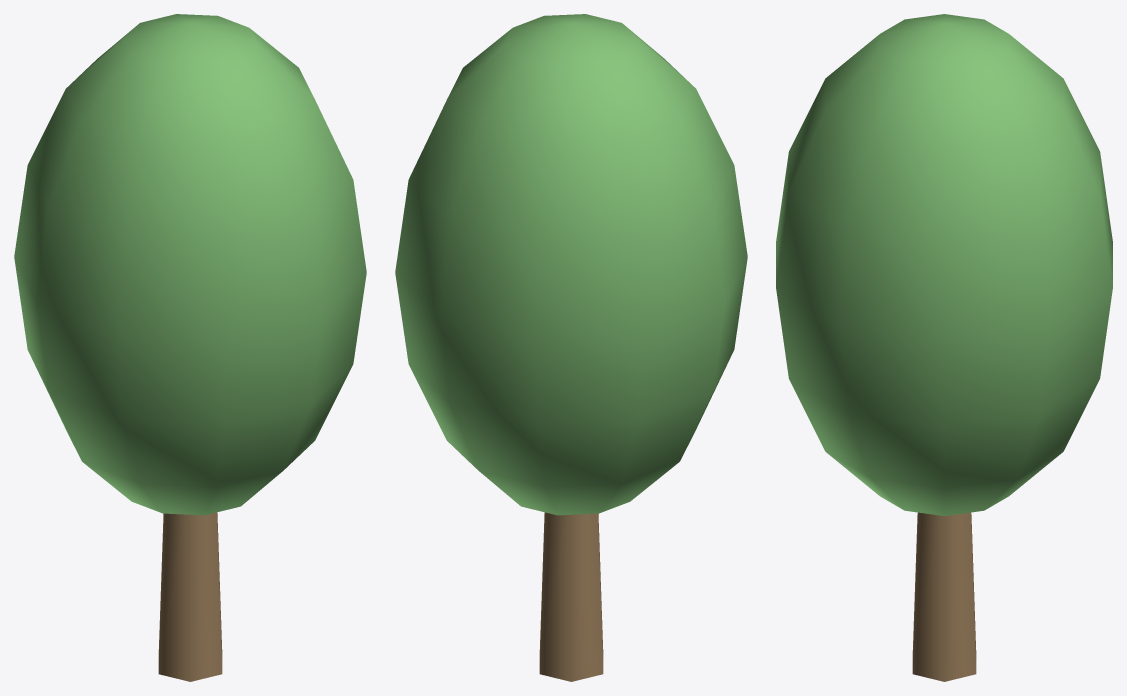
The model's file is tree-oval.glb.
3 views of the same model, side by side, from view 1: azimuth 30°, elevation 25°; view 2: azimuth 150°, elevation 25°; view 3: azimuth 270°, elevation 25° (orthographic).
Bounding box in the file's own units: 0.48 × 0.96 × 0.4565.
